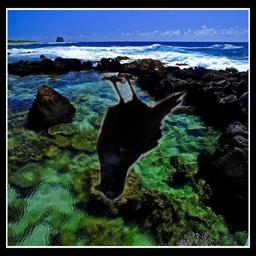Crow: (90, 73, 187, 202)
